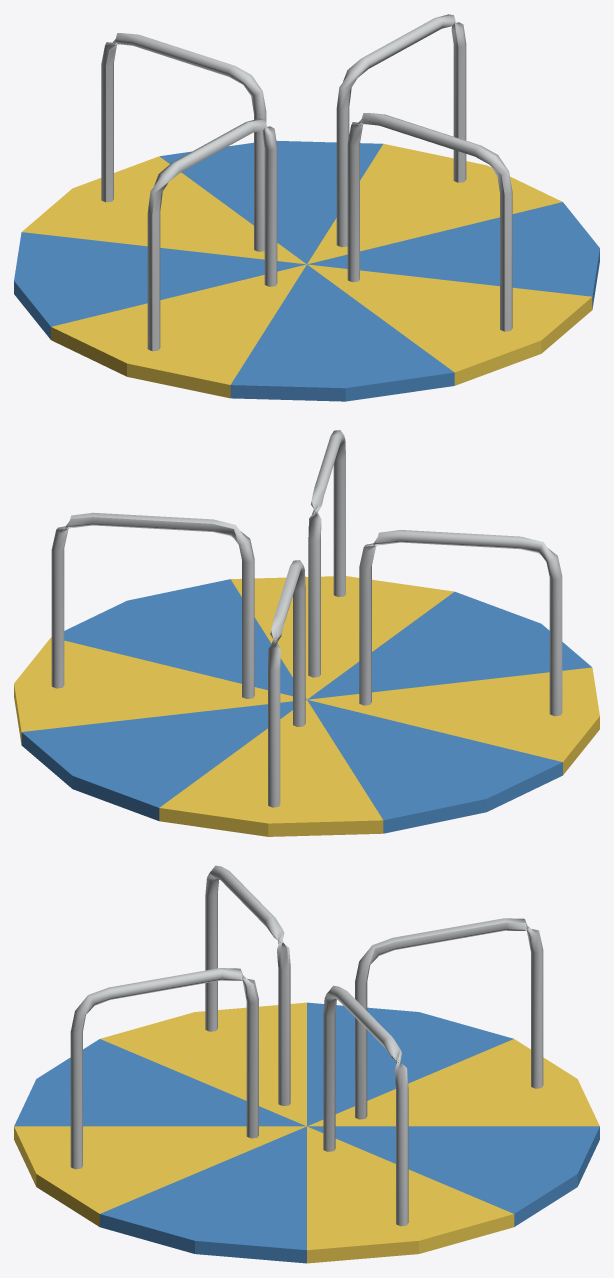
Rendered from playground-roundabout.glb.
The picture shows the model from 3 angles, top to bottom: view 1: azimuth 30°, elevation 25°; view 2: azimuth 150°, elevation 25°; view 3: azimuth 270°, elevation 25°; orthographic projection.
Visible parts, largest first — view 1: playground-roundabout; view 2: playground-roundabout; view 3: playground-roundabout.
Part boxes in pixels (x1,y1,x2,y2): playground-roundabout: (14, 14, 599, 401); playground-roundabout: (14, 430, 599, 836); playground-roundabout: (14, 865, 599, 1263).
Bounding box in the file's own units: 2 × 0.9715 × 2.
